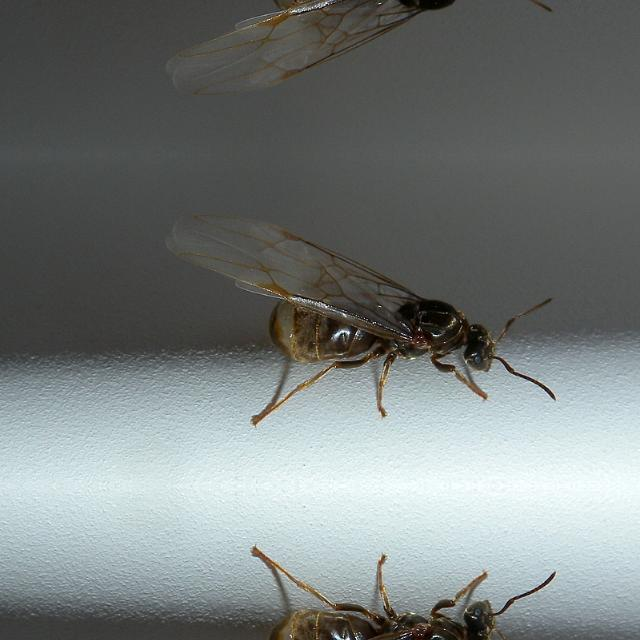Lasius: (180, 204, 570, 433), (180, 536, 568, 640), (179, 0, 568, 102)
